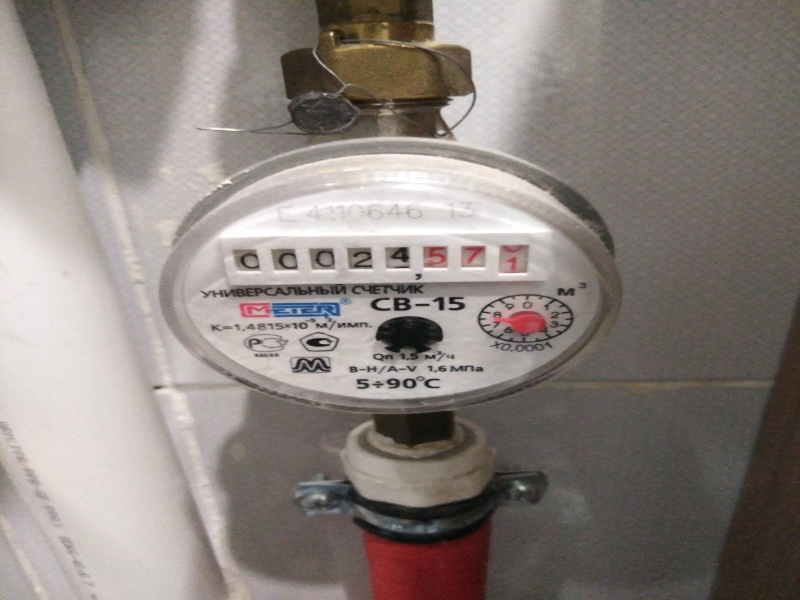meter: (226, 237, 540, 278)
